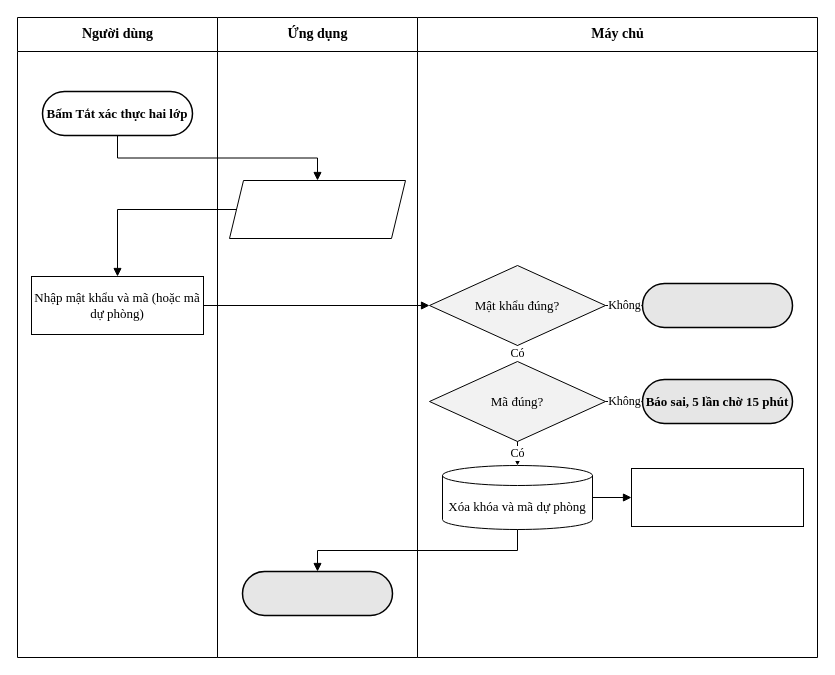
Some shapes in this 835 by 675 pixel diagram are drawn without their labels. The centre of each missing label's shape, as x and y in pixels:
Báo 2FA đã tắt: point 317,593
Báo sai, tính vào A4: point 717,305
Email + push, nút Không phải tôi: point 717,497
Hỏi mật khẩu và mã 6 số: point 317,209
